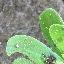Purslane: (2, 5, 64, 64)
